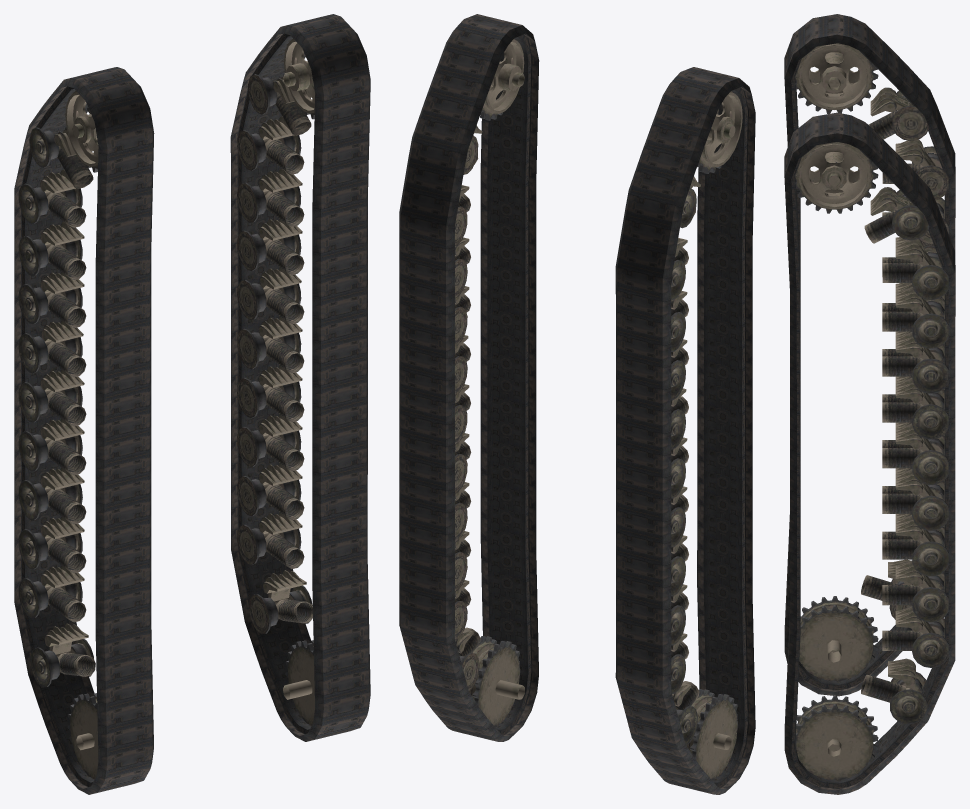
File: Chassis.glb
3 renders of one model, left to right at view 1: azimuth 30°, elevation 25°; view 2: azimuth 150°, elevation 25°; view 3: azimuth 270°, elevation 25°, orthographic. The views are drawn at different scales.
Parts seen in each view (by area): view 1: set_1_group_0, set_0_group_0, set_3_group_0, set_5_group_0, set_4_group_0, set_2_group_0; view 2: set_1_group_0, set_0_group_0, set_3_group_0, set_5_group_0; view 3: set_5_group_0, set_1_group_0, set_3_group_0, set_0_group_0, set_4_group_0.
Part boxes in pixels (<box>): set_1_group_0: <box>230,14,370,741</box>; set_0_group_0: <box>14,67,154,794</box>; set_3_group_0: <box>18,90,98,779</box>; set_5_group_0: <box>237,38,314,725</box>; set_4_group_0: <box>263,532,304,568</box>; set_2_group_0: <box>44,585,86,622</box>; set_1_group_0: <box>399,14,539,741</box>; set_0_group_0: <box>615,67,755,794</box>; set_3_group_0: <box>671,91,742,780</box>; set_5_group_0: <box>455,39,524,726</box>; set_5_group_0: <box>795,142,948,780</box>; set_1_group_0: <box>784,112,955,794</box>; set_3_group_0: <box>795,43,948,681</box>; set_0_group_0: <box>784,14,955,696</box>; set_4_group_0: <box>882,621,935,650</box>.
Bounding box in the file's own units: 2.74 × 6.83 × 1.6.
Materials: 6 (6 with a texture image).
